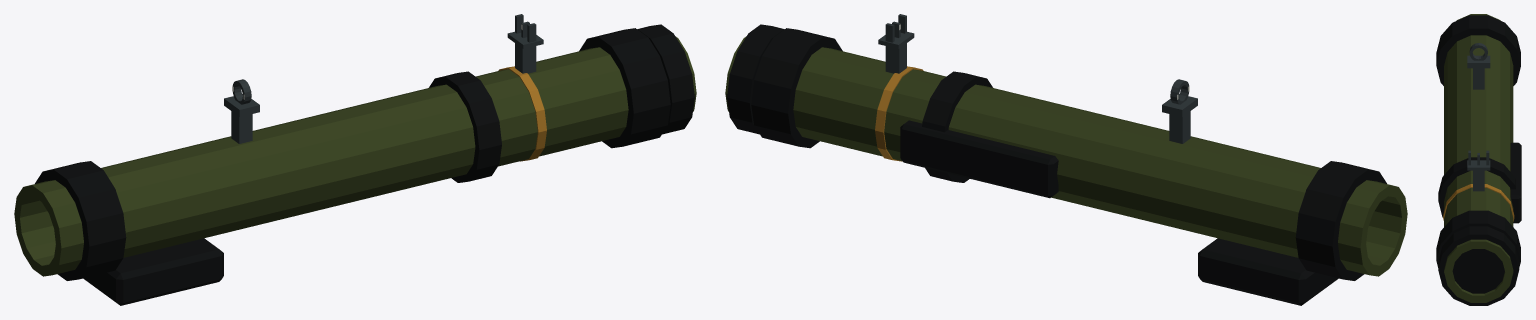
Rendered from CE_ATFour.obj.
3 views of the same model, side by side, from view 1: azimuth 30°, elevation 25°; view 2: azimuth 150°, elevation 25°; view 3: azimuth 270°, elevation 25° (orthographic). The views are drawn at different scales.
Parts seen in each view (by area): view 1: AT4_launch_tube, AT4_shoulder_support, Flared_end_collar, Flared_end_collar.001, Tube_reinforcement.001, Tube_reinforcement.002, Warning_band, R3_Rear_SeatedStem, R3_Front_SeatedStem, R3_Rear_Foot; view 2: AT4_launch_tube, AT4_side_firing_unit, AT4_shoulder_support, Flared_end_collar, Flared_end_collar.001, Tube_reinforcement.002, Tube_reinforcement.001, Warning_band, R3_Rear_SeatedStem, R3_Front_SeatedStem, R3_Rear_Foot; view 3: AT4_launch_tube, Tube_reinforcement.002, Flared_end_collar, Flared_end_collar.001, Tube_reinforcement.001, AT4_side_firing_unit, Warning_band, R3_Rear_Foot, R3_Rear_SeatedStem, R3_Front_SeatedStem, R3_Front_Foot, R3_Rear_OpenAperture.
Boxes of the visible parts, x1=… form: AT4_launch_tube: x1=14, y1=36, x2=696, y2=276; AT4_shoulder_support: x1=83, y1=238, x2=223, y2=305; Flared_end_collar: x1=35, y1=161, x2=126, y2=280; Flared_end_collar.001: x1=579, y1=28, x2=670, y2=148; Tube_reinforcement.001: x1=429, y1=71, x2=501, y2=182; Tube_reinforcement.002: x1=637, y1=24, x2=694, y2=134; Warning_band: x1=498, y1=66, x2=546, y2=161; R3_Rear_SeatedStem: x1=231, y1=111, x2=252, y2=143; R3_Front_SeatedStem: x1=515, y1=43, x2=536, y2=73; R3_Rear_Foot: x1=224, y1=94, x2=259, y2=116; AT4_launch_tube: x1=725, y1=36, x2=1407, y2=276; AT4_side_firing_unit: x1=900, y1=120, x2=1058, y2=198; AT4_shoulder_support: x1=1198, y1=238, x2=1338, y2=305; Flared_end_collar: x1=1295, y1=161, x2=1386, y2=280; Flared_end_collar.001: x1=751, y1=28, x2=842, y2=148; Tube_reinforcement.002: x1=727, y1=24, x2=784, y2=134; Tube_reinforcement.001: x1=922, y1=71, x2=992, y2=182; Warning_band: x1=875, y1=66, x2=923, y2=161; R3_Rear_SeatedStem: x1=1169, y1=111, x2=1190, y2=143; R3_Front_SeatedStem: x1=885, y1=43, x2=906, y2=73; R3_Rear_Foot: x1=1162, y1=94, x2=1197, y2=116; AT4_launch_tube: x1=1444, y1=14, x2=1513, y2=302; Tube_reinforcement.002: x1=1438, y1=226, x2=1519, y2=305; Flared_end_collar: x1=1436, y1=15, x2=1520, y2=85; Flared_end_collar.001: x1=1436, y1=210, x2=1520, y2=267; Tube_reinforcement.001: x1=1438, y1=157, x2=1515, y2=217; AT4_side_firing_unit: x1=1510, y1=142, x2=1521, y2=223; Warning_band: x1=1443, y1=184, x2=1514, y2=221; R3_Rear_Foot: x1=1467, y1=55, x2=1490, y2=68; R3_Rear_SeatedStem: x1=1473, y1=68, x2=1484, y2=89; R3_Front_SeatedStem: x1=1473, y1=170, x2=1484, y2=191; R3_Front_Foot: x1=1467, y1=160, x2=1490, y2=170; R3_Rear_OpenAperture: x1=1469, y1=43, x2=1487, y2=60.
Bounding box in the file's own units: 1.12 × 0.2985 × 0.177.
